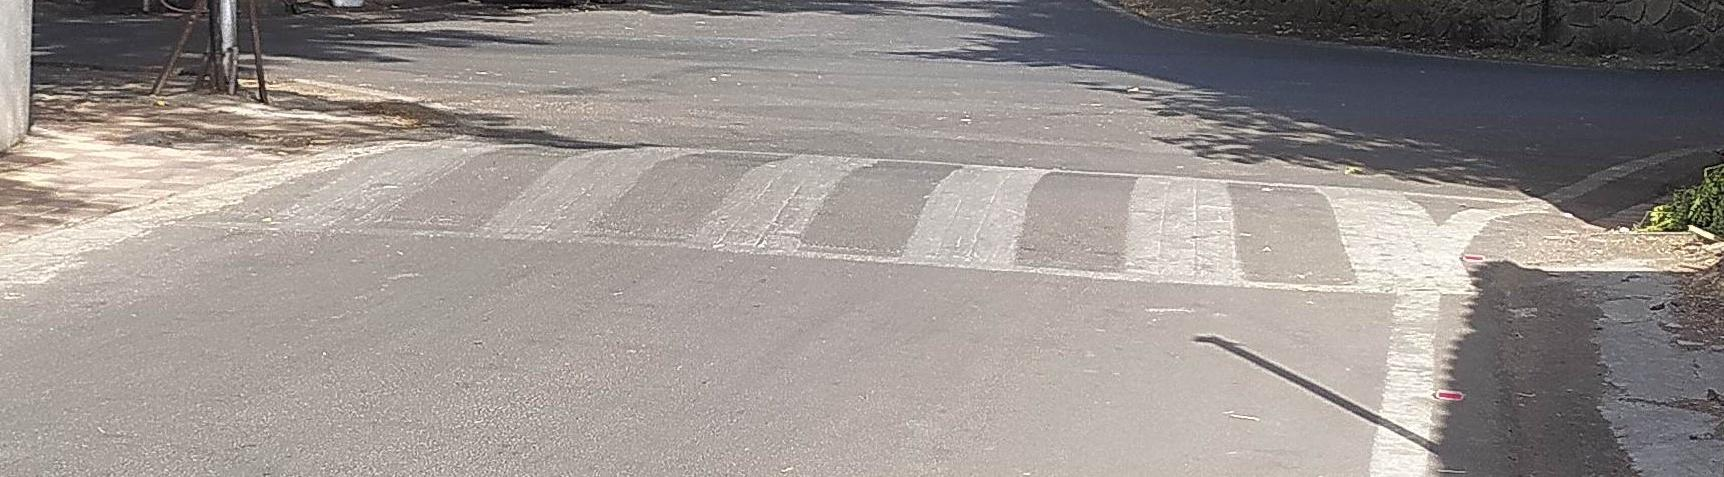speed-bump: (208, 130, 1568, 300)
